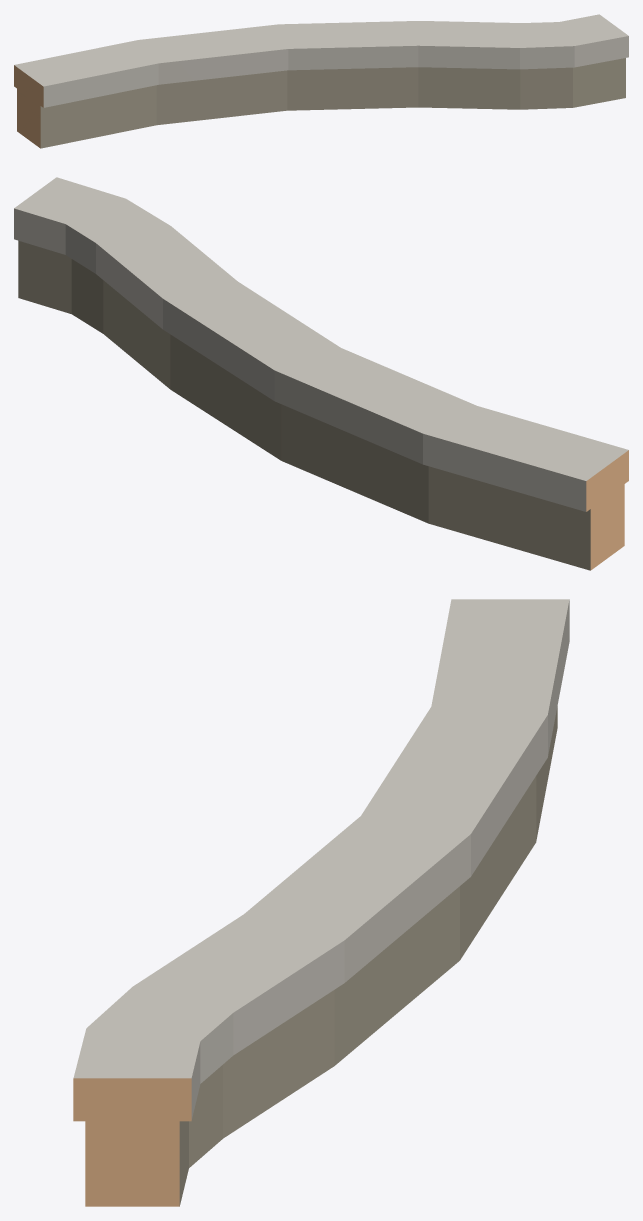
The model's file is Tiered_Retaining_Wall_Esse_2x3_Top.glb.
The picture shows the model from 3 angles, top to bottom: view 1: azimuth 30°, elevation 25°; view 2: azimuth 150°, elevation 25°; view 3: azimuth 270°, elevation 25°; orthographic projection. The views are drawn at different scales.
Visible parts, largest first — view 1: Tiered_Retaining_Wall_Esse_2x3_Top; view 2: Tiered_Retaining_Wall_Esse_2x3_Top; view 3: Tiered_Retaining_Wall_Esse_2x3_Top.
Part boxes in pixels (box(x1,y1,x2,y2)): Tiered_Retaining_Wall_Esse_2x3_Top: box(14, 14, 628, 148); Tiered_Retaining_Wall_Esse_2x3_Top: box(14, 177, 628, 570); Tiered_Retaining_Wall_Esse_2x3_Top: box(73, 599, 569, 1206).
Size of the model in its own units: 300 by 37.5 by 131.
